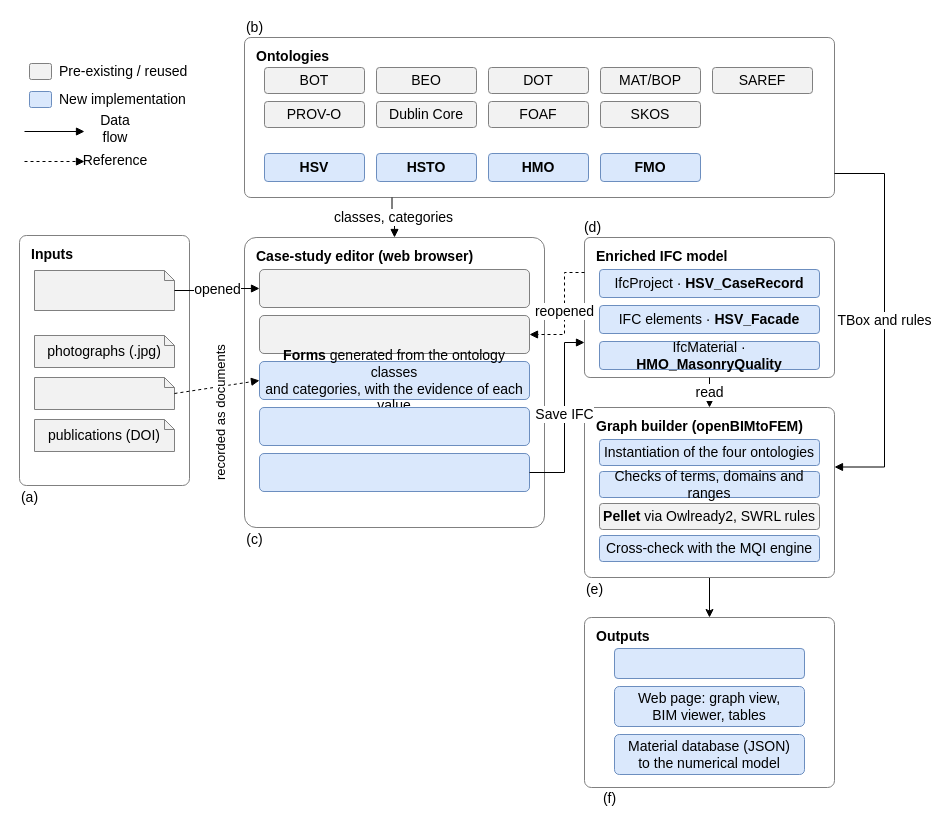
The diagram is 948 pixels wide and 825 high, and some of its shapes have lost their labels. Here are the shapes that lost their labels. From the top down, the centre of each, then its label:
At (x=104, y=290): "BIM model (.ifc)".
At (x=394, y=288): "IFC-Lite (WebAssembly) IFC parsing and geometry".
At (x=394, y=334): "3D viewer (three.js) selection of the elements".
At (x=104, y=393): "drawings (.pdf)".
At (x=394, y=426): "Assignment of the IFC elements to façades, units and masonry types".
At (x=394, y=472): "IFC writer case study saved as property sets".
At (x=709, y=663): "Knowledge graph (Turtle)".
